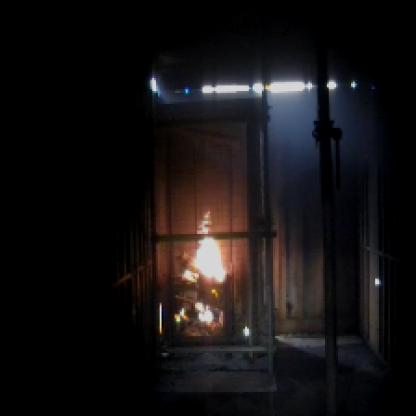Fire: (176, 210, 242, 323)
